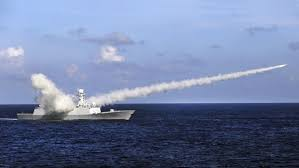ten_lua: (274, 59, 291, 71)
